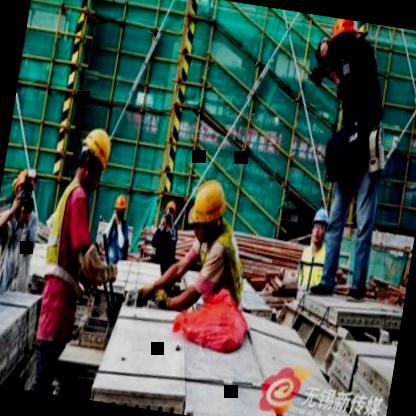helmet: (186, 178, 232, 239), (73, 126, 114, 190), (325, 17, 361, 68), (7, 167, 36, 217), (308, 208, 330, 244), (110, 194, 128, 221), (160, 199, 176, 228)
